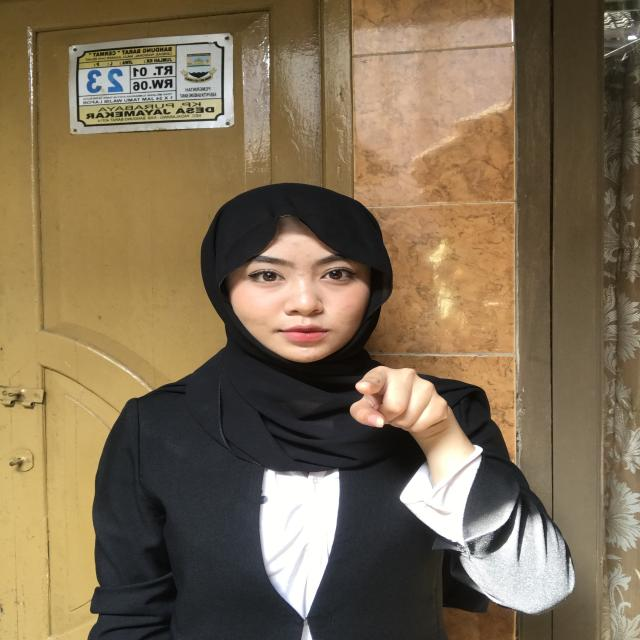kamu: (334, 354, 474, 464)
